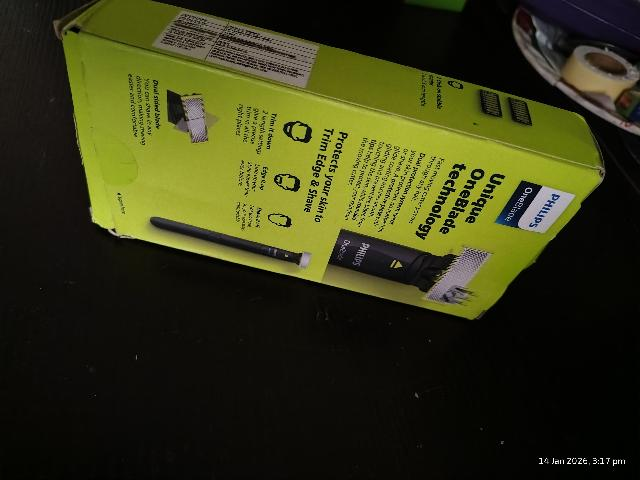phillips oneblade: (54, 124, 572, 324)
